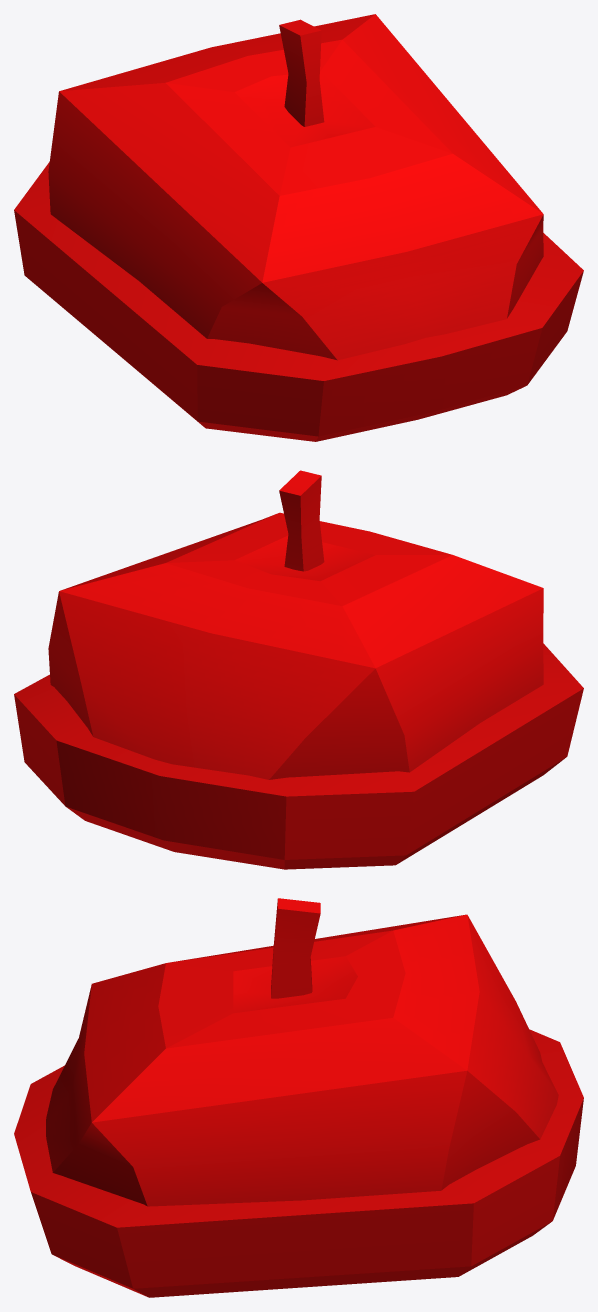
The model's file is FeltedHat.fbx.
3 views of the same model, one above another, from view 1: azimuth 30°, elevation 25°; view 2: azimuth 150°, elevation 25°; view 3: azimuth 270°, elevation 25° (orthographic).
Visible parts, largest first — view 1: FeltedHat; view 2: FeltedHat; view 3: FeltedHat.
Boxes of the visible parts, bbox=[...] form: FeltedHat: bbox=[14, 14, 583, 441]; FeltedHat: bbox=[14, 470, 583, 869]; FeltedHat: bbox=[14, 898, 583, 1297].
Size of the model in its own units: 27.57 by 20.55 by 33.64.
